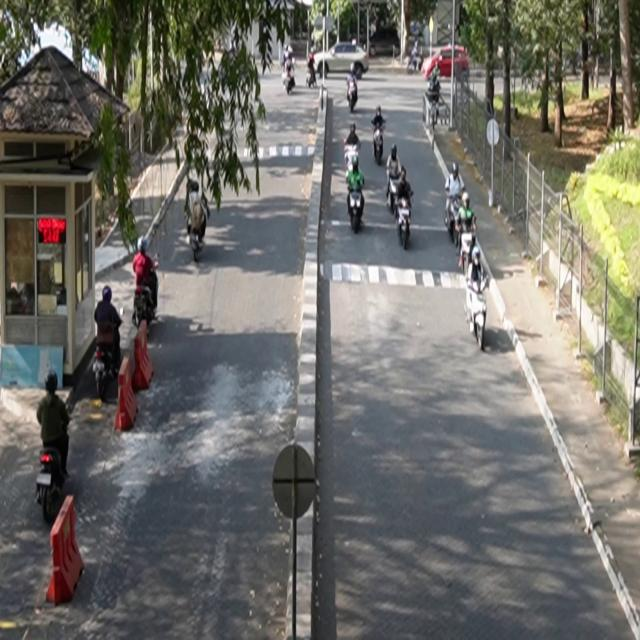car: (313, 42, 370, 80), (423, 46, 471, 83)
